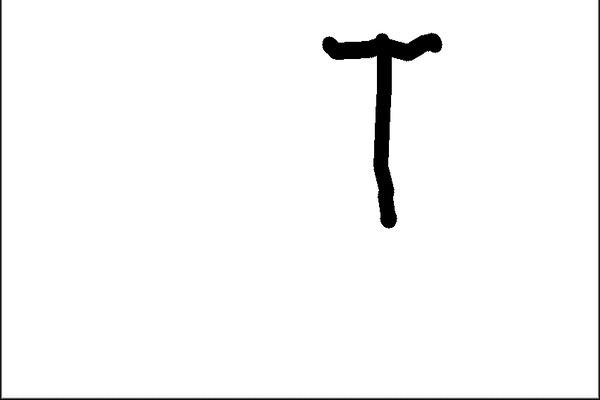T: (317, 23, 475, 232)
